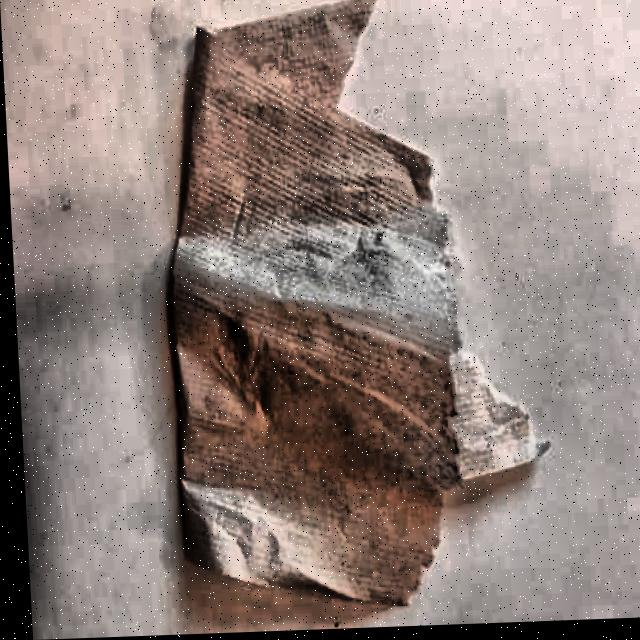trash: (152, 0, 561, 604)
